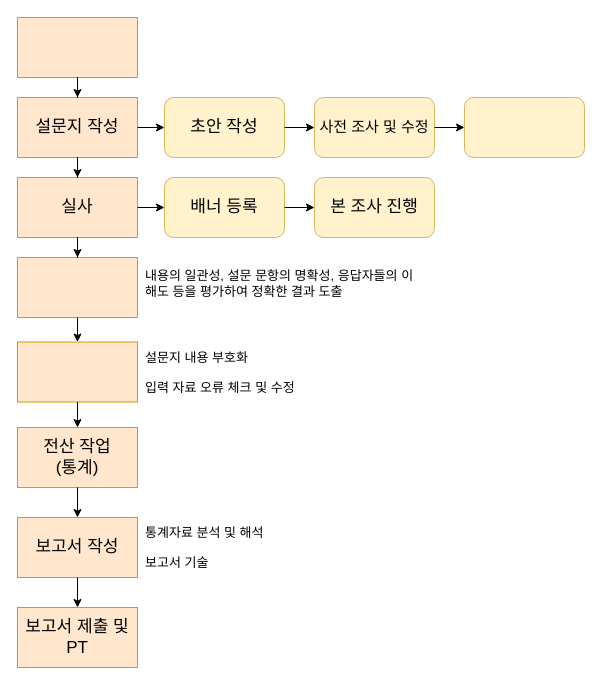
Image size: 602x685. Some labels were removed from this diagram. Each missing label, with the box of its shape:
검증: (16, 256, 138, 318)
전산자료 입력작업 (코딩): (16, 341, 138, 402)
조사 계약: (16, 16, 138, 78)
최종 설문지 완성: (464, 96, 584, 158)
